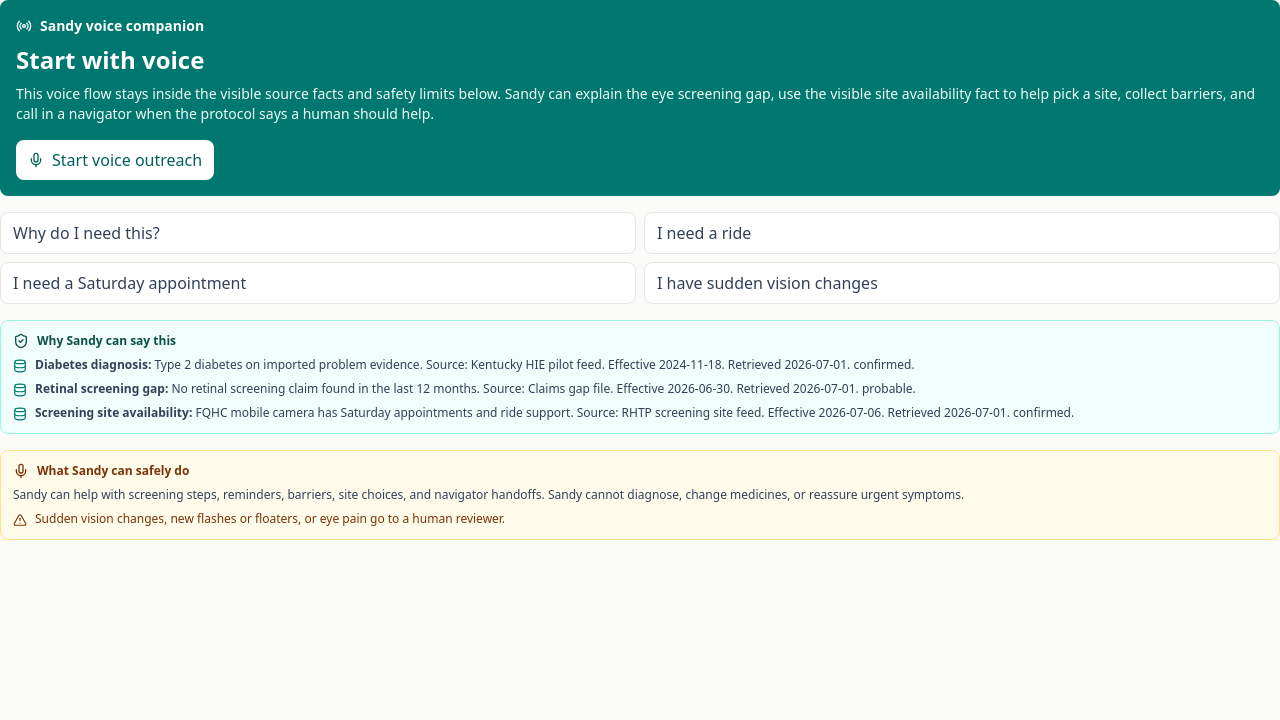
Test: VoiceCompanionScreen › shows red-flag escalation copy when the patient reports sudden vision changes
Click the button "Start voice outreach" at (115, 160), box left=16, top=140, right=214, bottom=180
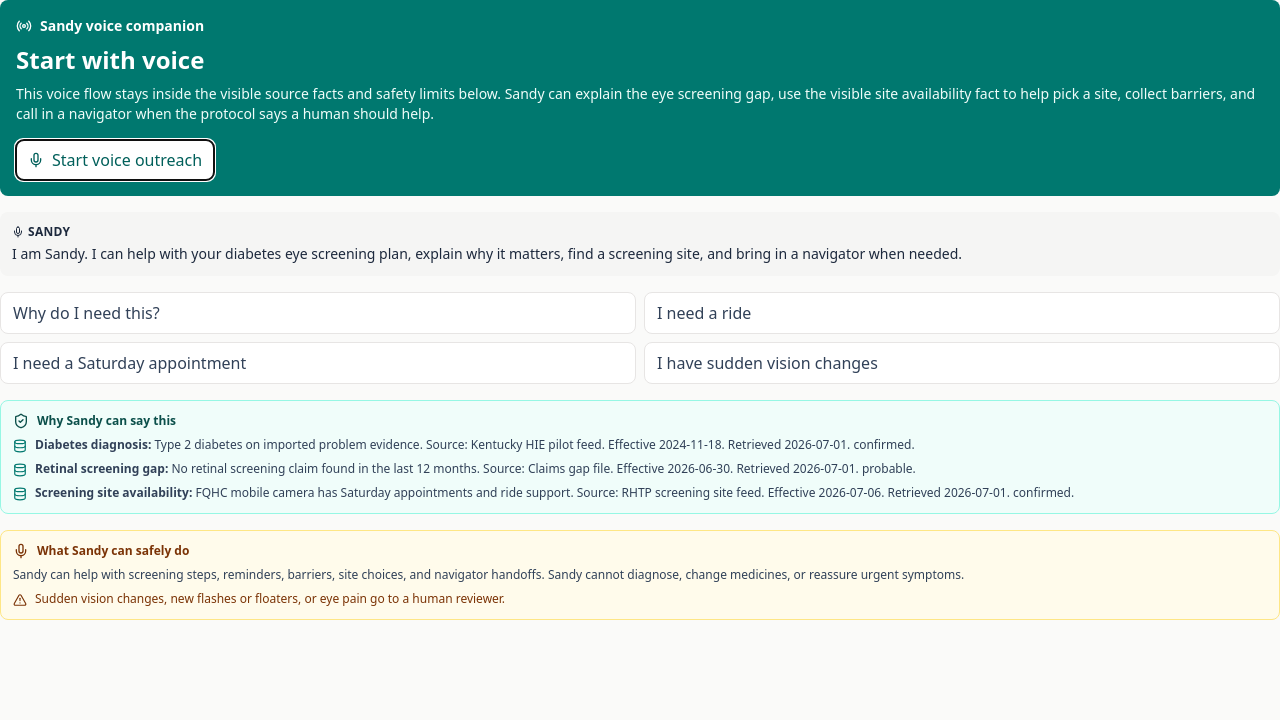
Click the button "I have sudden vision changes" at (767, 363), box left=644, top=342, right=1279, bottom=384
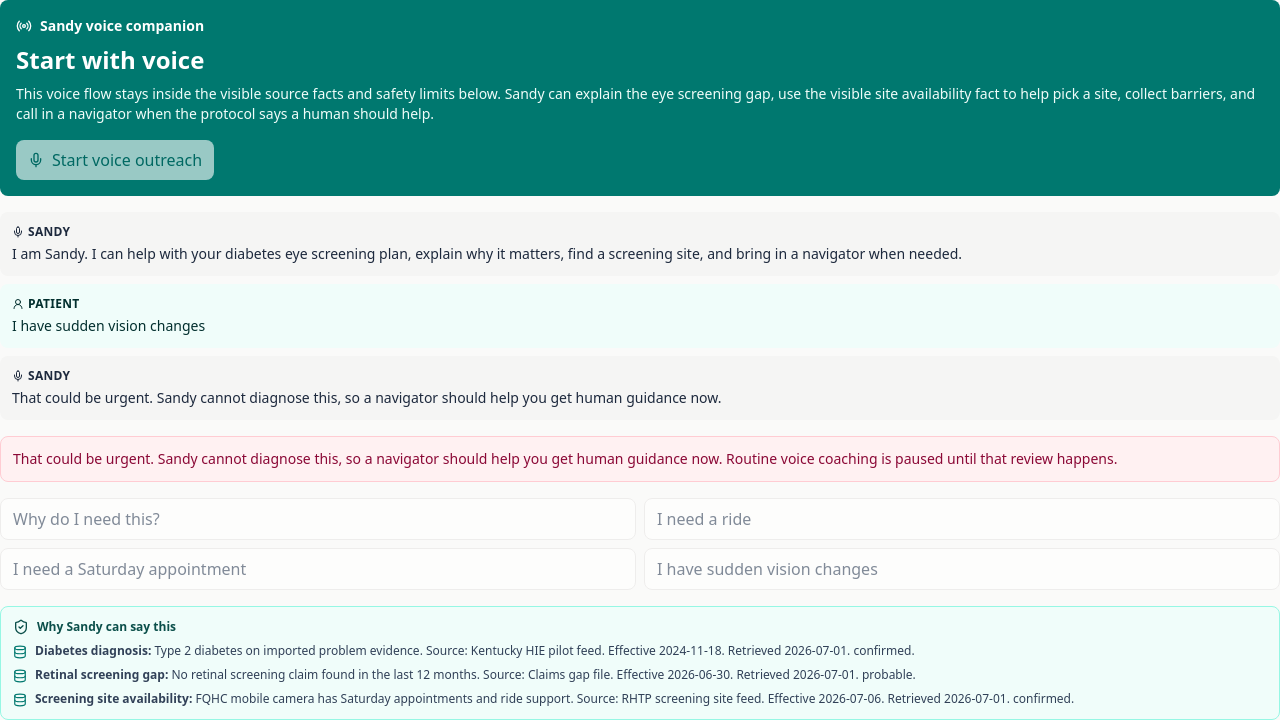
Now the button "Start voice outreach" is disabled, box left=16, top=140, right=214, bottom=180
Now the button "Why do I need this?" is disabled, box left=0, top=498, right=636, bottom=540
Now the button "I need a ride" is disabled, box left=644, top=498, right=1279, bottom=540
